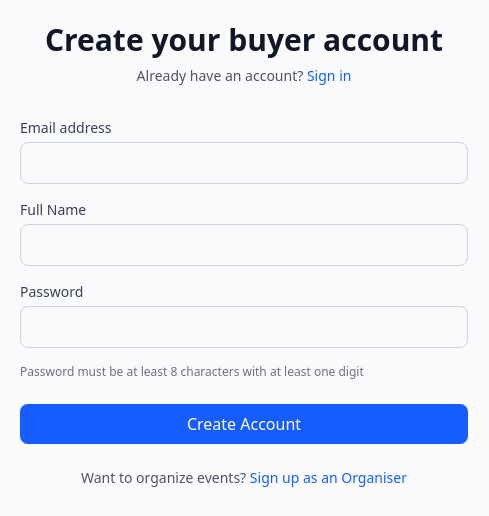
Scenario: BuyerRegistrationView › shows error when password is shorter than 8 characters
The image size is (489, 516).
Type "test@example.com" into the field labelled "Email address" at (244, 163), box [20, 142, 468, 184]
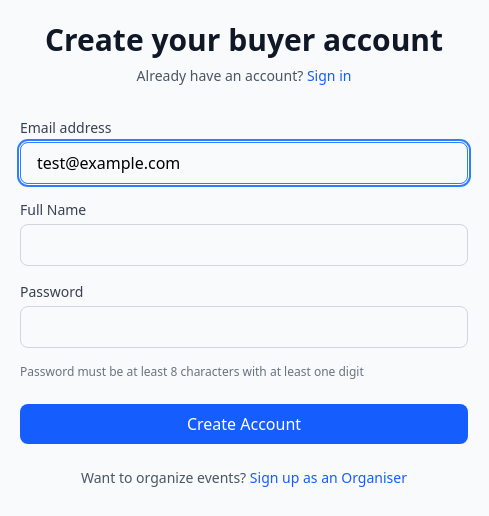
Type "Jane Doe" into the field labelled "Full Name" at (244, 245), box [20, 224, 468, 266]
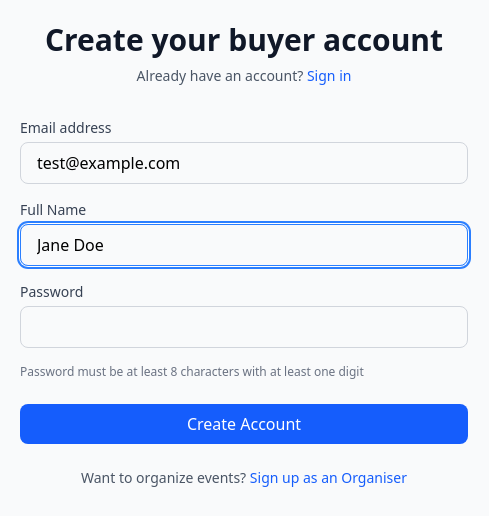
Type "abc" into the password field labelled "Password" at (244, 327), box [20, 306, 468, 348]
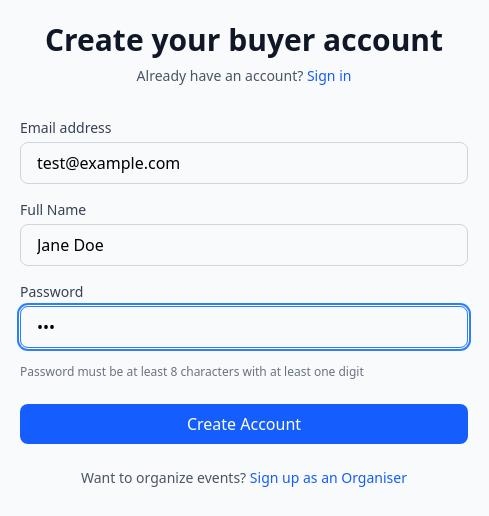
Click the button "Create Account" at (244, 424), box [20, 404, 468, 444]
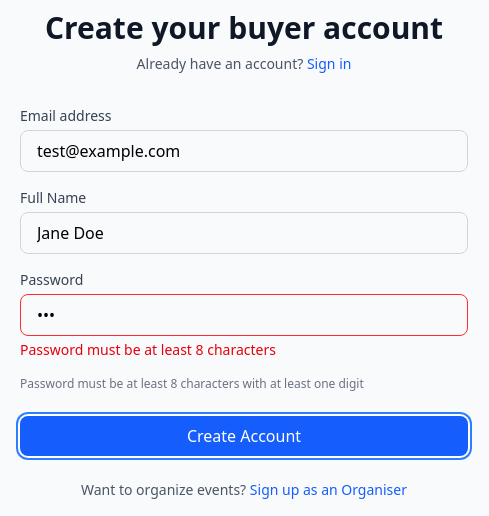
Check: the text "Password must be at least 8 characters" is shown, box [20, 340, 276, 359]
